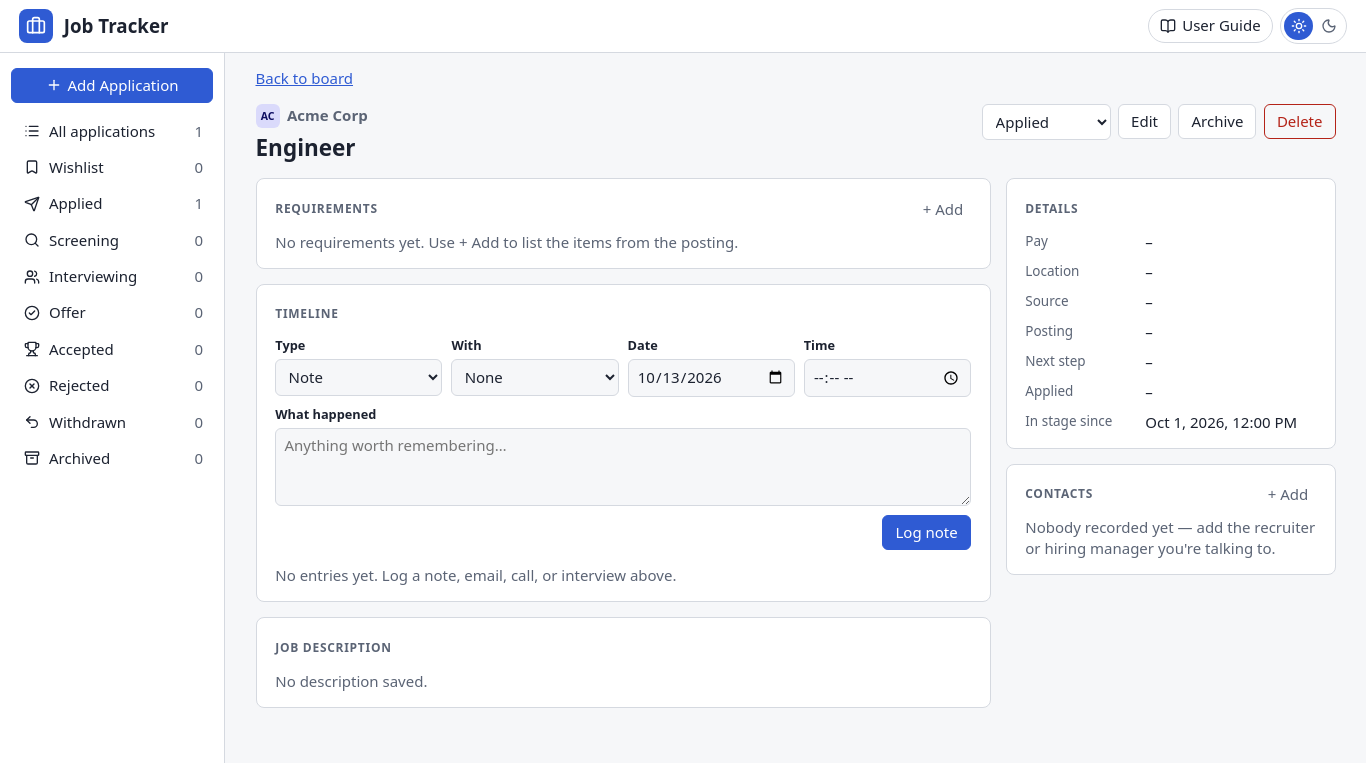
Test: the Contacts section › explains a missing name and a bad email next to the field, and sends nothing (AC-4)
expect the element "Contacts" is shown: met, box x1=1006 y1=464 x2=1336 y2=575
Click the button with aria-label "Add contact" at (1288, 495), box x1=1260 y1=480 x2=1316 y2=509
(page scrolled)
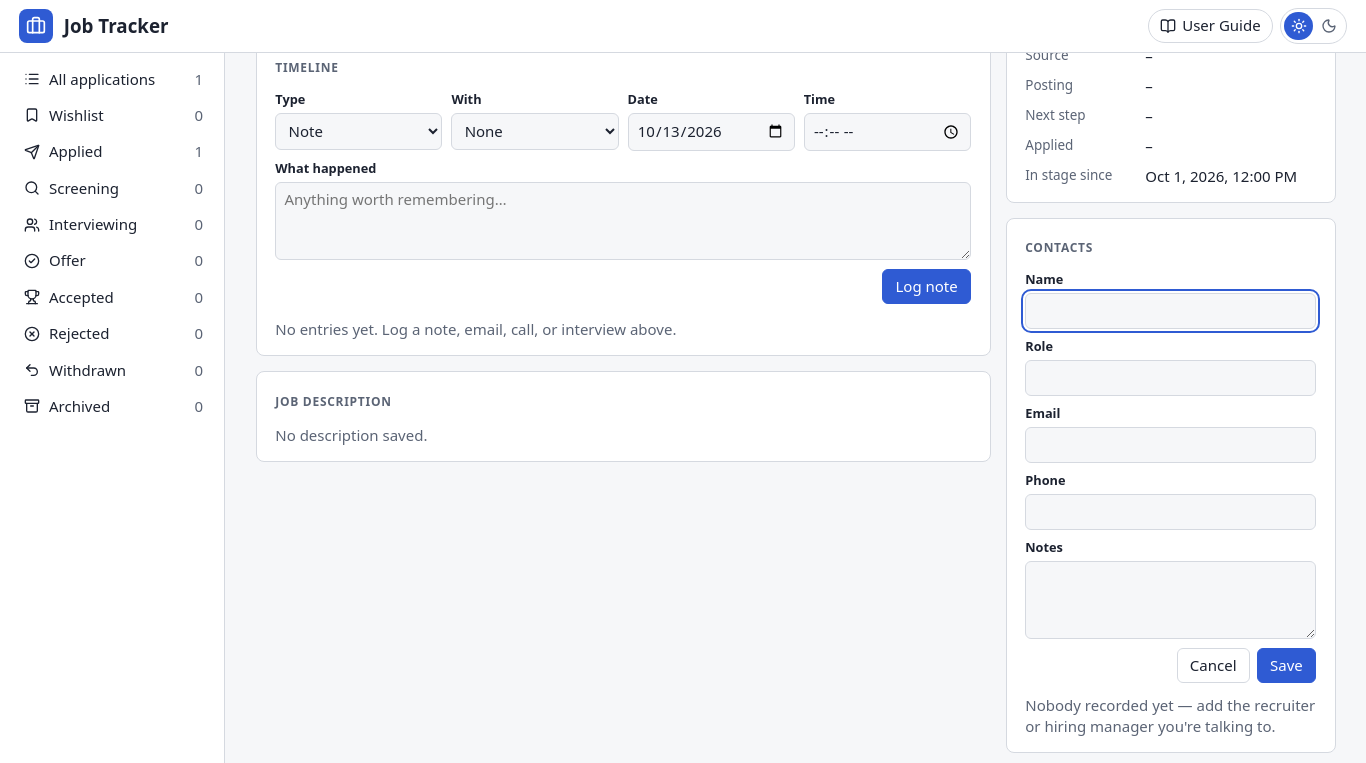
Click the button "Save" at (1286, 666), box x1=1257 y1=648 x2=1316 y2=684
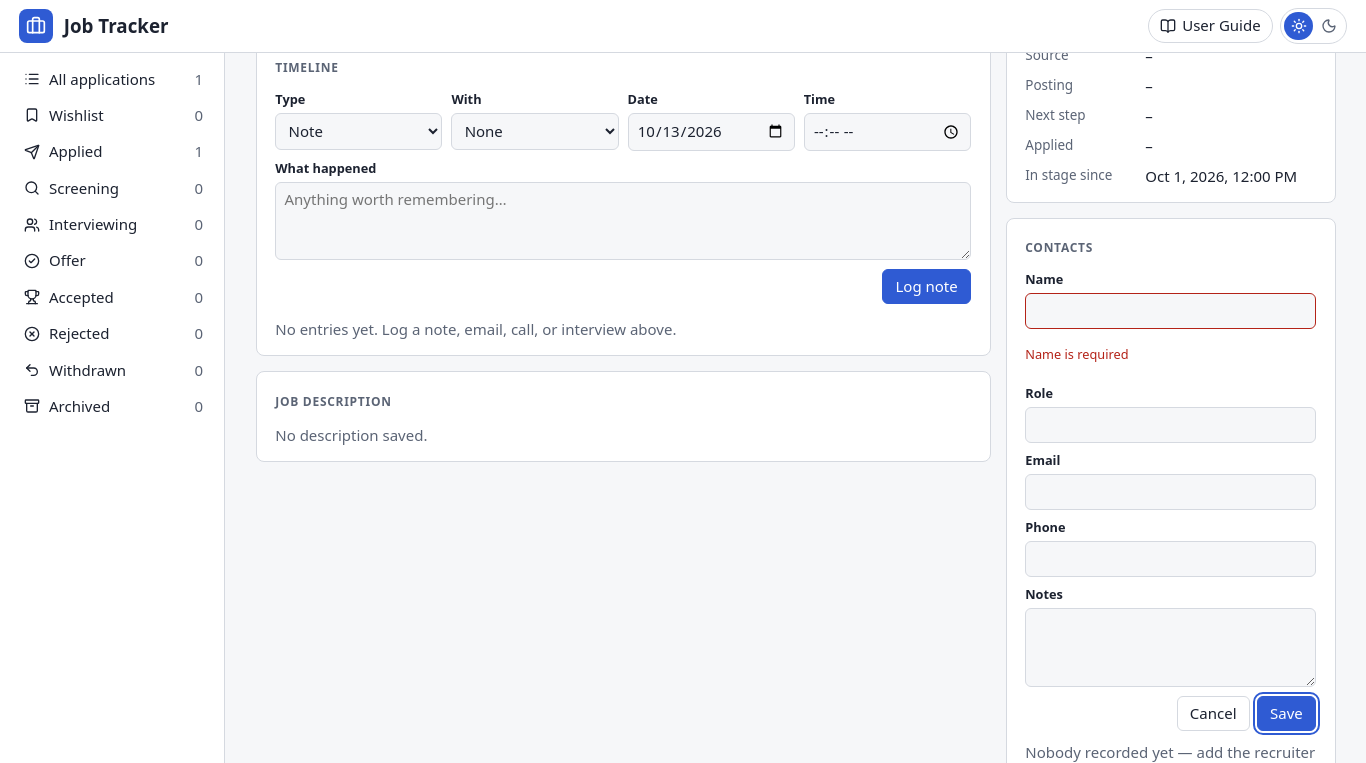
expect the text "Name is required" is shown: met, box x1=1025 y1=345 x2=1129 y2=363
Type "Sam" into the field labelled "Name" at (1171, 311), box x1=1025 y1=293 x2=1316 y2=329
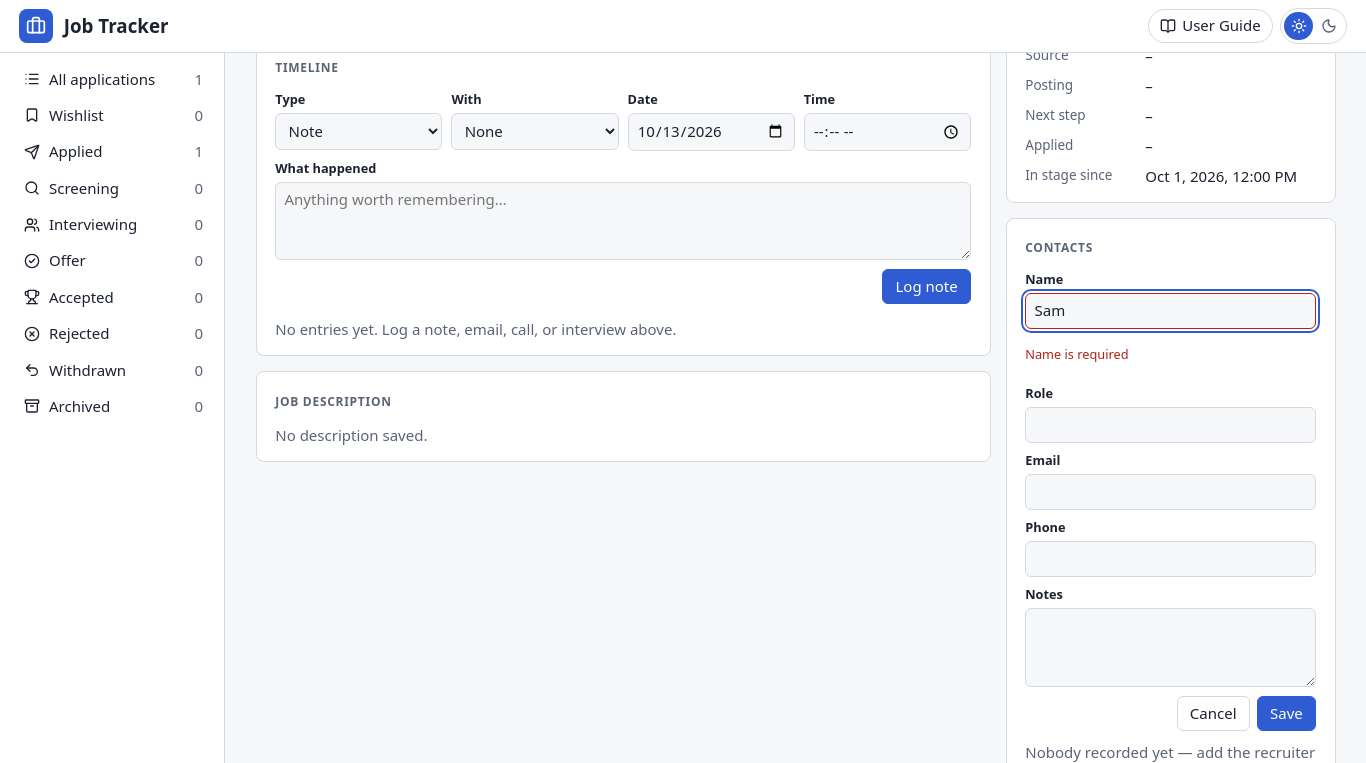
Type "not-an-email" into the field labelled "Email" at (1171, 492), box x1=1025 y1=474 x2=1316 y2=510
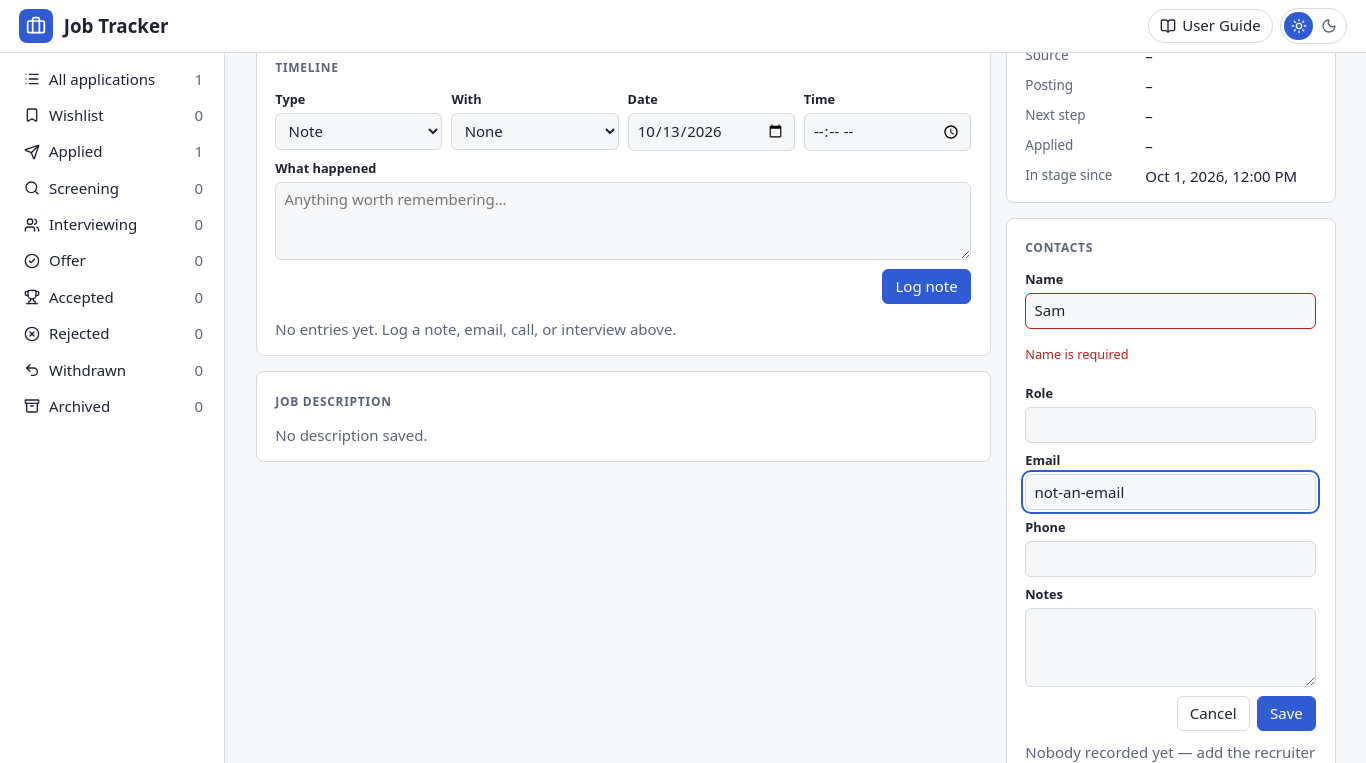
Click the button "Save" at (1286, 713), box x1=1257 y1=696 x2=1316 y2=731
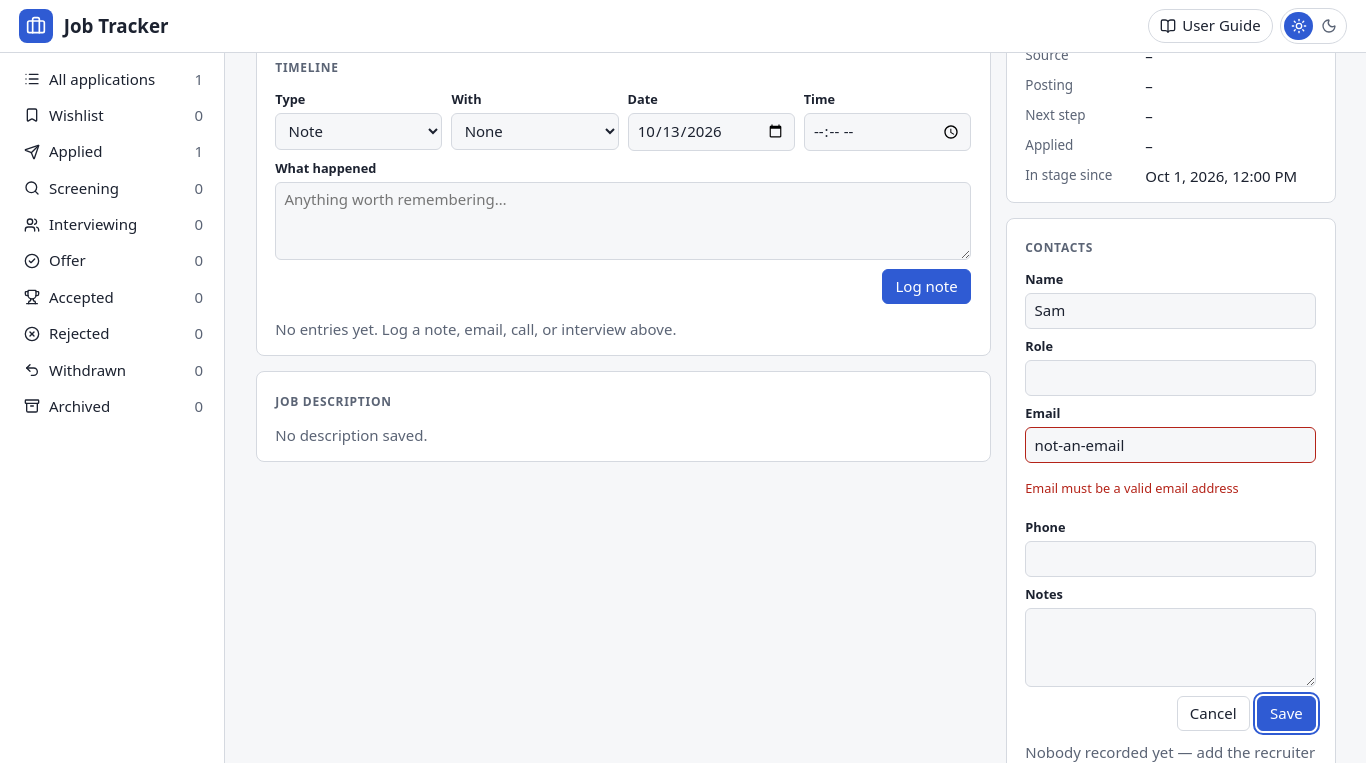
expect the text "Email must be a valid email address" is shown: met, box x1=1025 y1=479 x2=1239 y2=497
